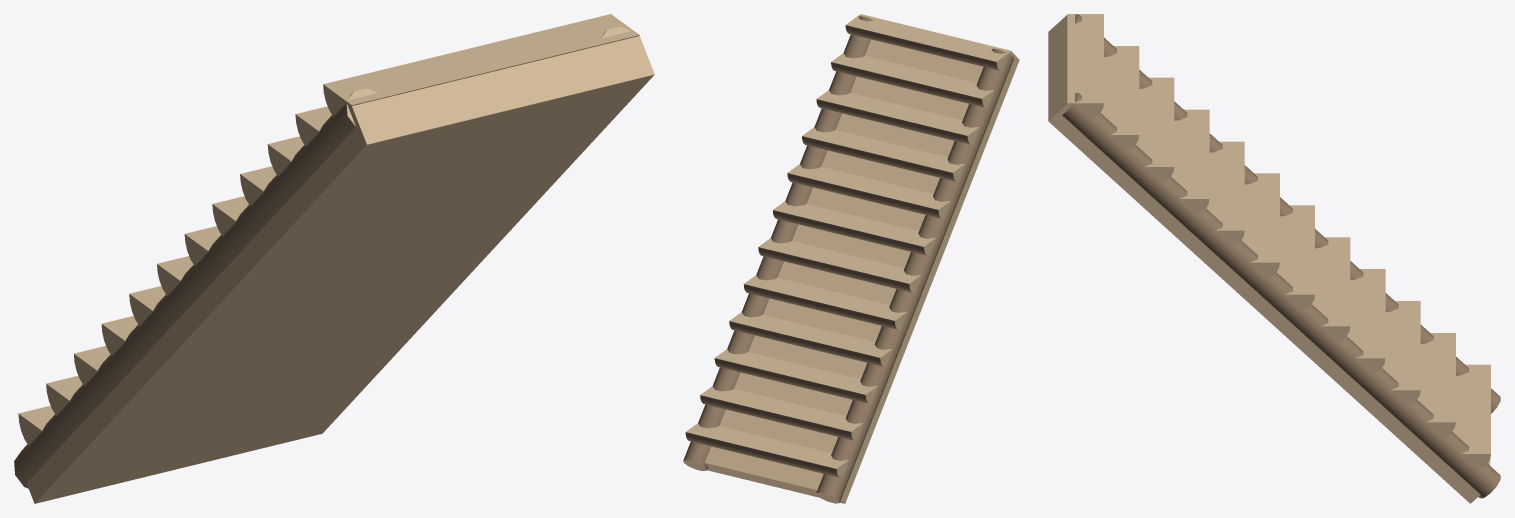
Rendered from log_stairs_steep.glb.
The picture shows the model from 3 angles, left to right: view 1: azimuth 30°, elevation 25°; view 2: azimuth 150°, elevation 25°; view 3: azimuth 270°, elevation 25°; orthographic projection. The views are drawn at different scales.
Parts seen in each view (by area): view 1: Col_Ramp, Stairs; view 2: Stairs, Col_Ramp; view 3: Stairs, Col_Ramp.
Part boxes in pixels (left/top/right/bottom): Col_Ramp: left=26, top=36, right=654, bottom=503; Stairs: left=14, top=14, right=639, bottom=488; Stairs: left=683, top=14, right=1013, bottom=503; Col_Ramp: left=705, top=39, right=1019, bottom=503; Stairs: left=1062, top=14, right=1500, bottom=498; Col_Ramp: left=1048, top=15, right=1490, bottom=503.
Size of the model in its own units: 1.54 by 3.17 by 3.22.
